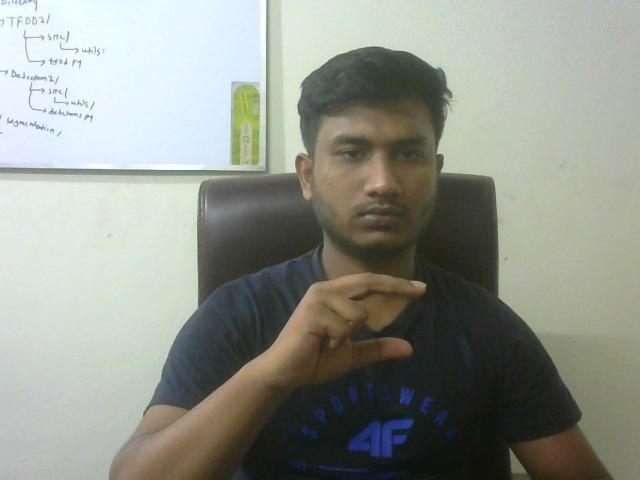No: (275, 256, 437, 404)
